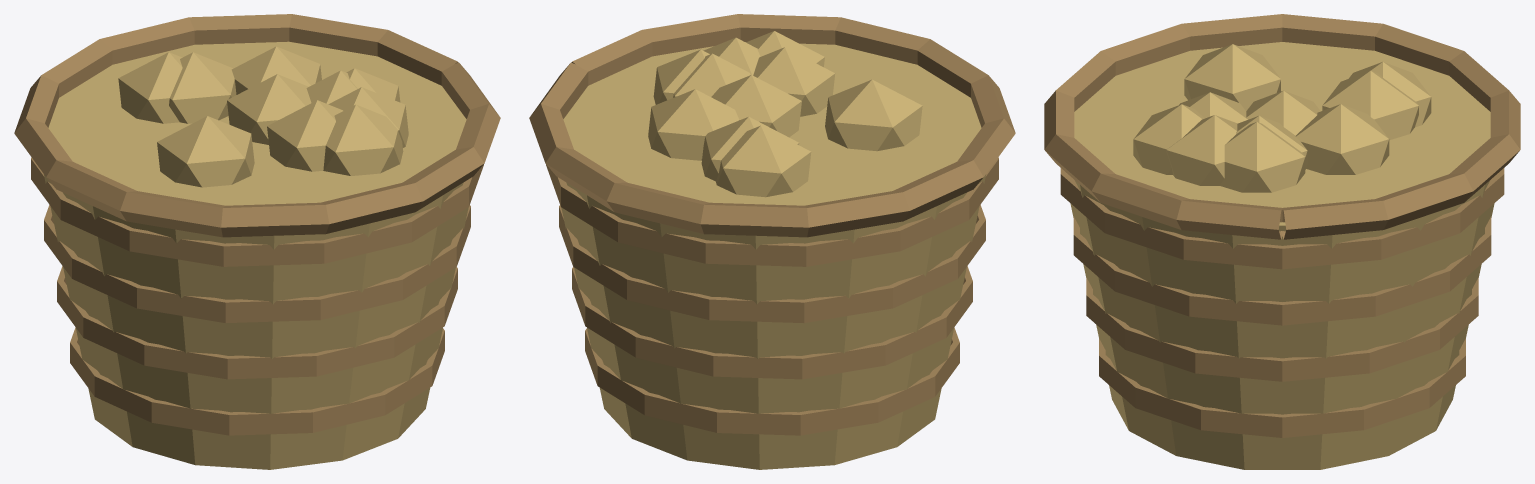
Rendered from decorativos-canasto.glb.
3 views of the same model, side by side, from view 1: azimuth 30°, elevation 25°; view 2: azimuth 150°, elevation 25°; view 3: azimuth 270°, elevation 25° (orthographic).
Visible parts, largest first — view 1: canasto_Paja, canasto_Soga; view 2: canasto_Paja, canasto_Soga; view 3: canasto_Paja, canasto_Soga.
Part boxes in pixels (x1,y1,x2,y2): canasto_Paja: (43, 41, 468, 469); canasto_Soga: (14, 14, 500, 435); canasto_Paja: (561, 31, 986, 469); canasto_Soga: (529, 14, 1015, 435); canasto_Paja: (1070, 42, 1494, 469); canasto_Soga: (1044, 14, 1520, 437).
Size of the model in its own units: 0.8592 by 0.62 by 0.8384.
